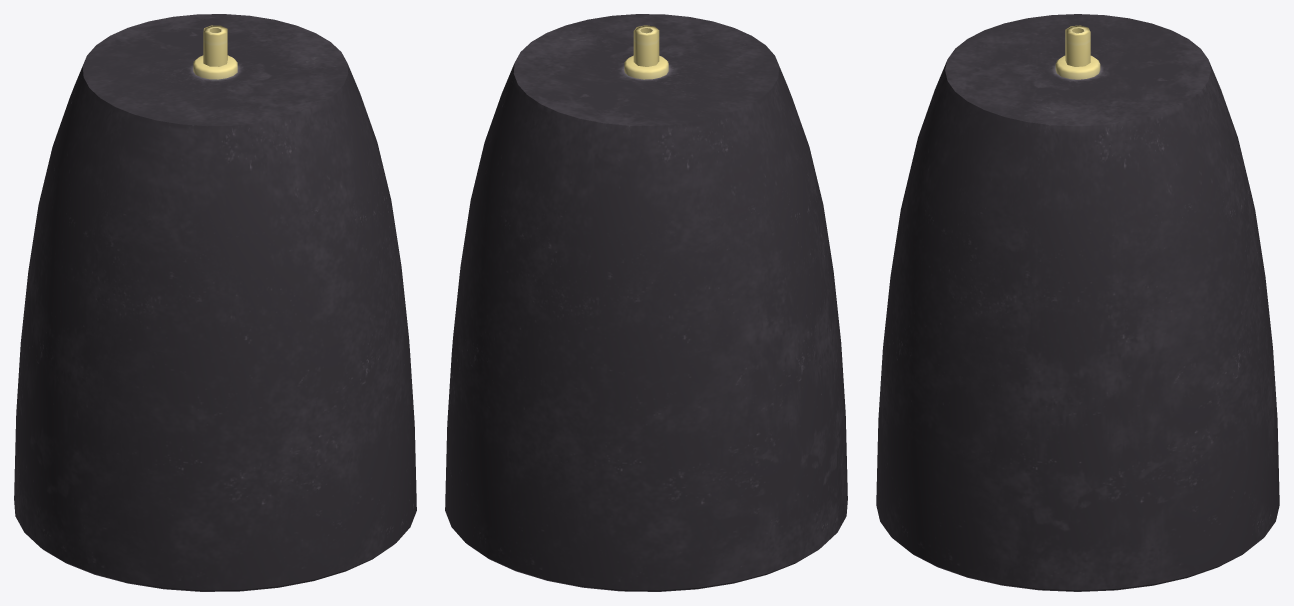
File: SM_LampB.fbx
3 renders of one model, left to right at view 1: azimuth 30°, elevation 25°; view 2: azimuth 150°, elevation 25°; view 3: azimuth 270°, elevation 25°, orthographic.
Visible parts, largest first — view 1: SM_LampB_LOD0; view 2: SM_LampB_LOD0; view 3: SM_LampB_LOD0.
Part boxes in pixels (box(x1,y1,x2,y2)): SM_LampB_LOD0: box(14, 14, 416, 591); SM_LampB_LOD0: box(445, 14, 847, 591); SM_LampB_LOD0: box(876, 14, 1279, 591).
Size of the model in its own units: 43.01 by 43.01 by 56.2.
Materials: 2 (2 with a texture image).
